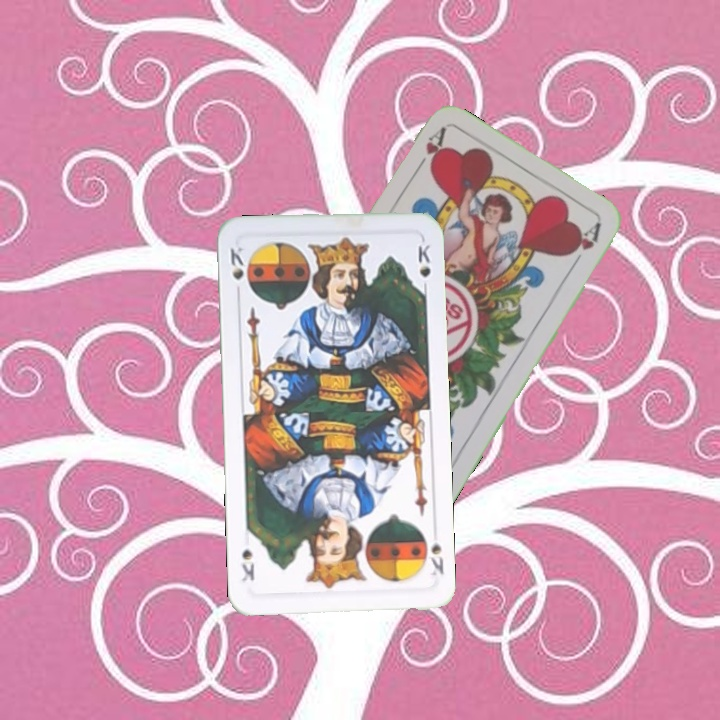HA: (409, 124, 449, 178)
SK: (226, 242, 247, 283), (426, 539, 447, 578)
